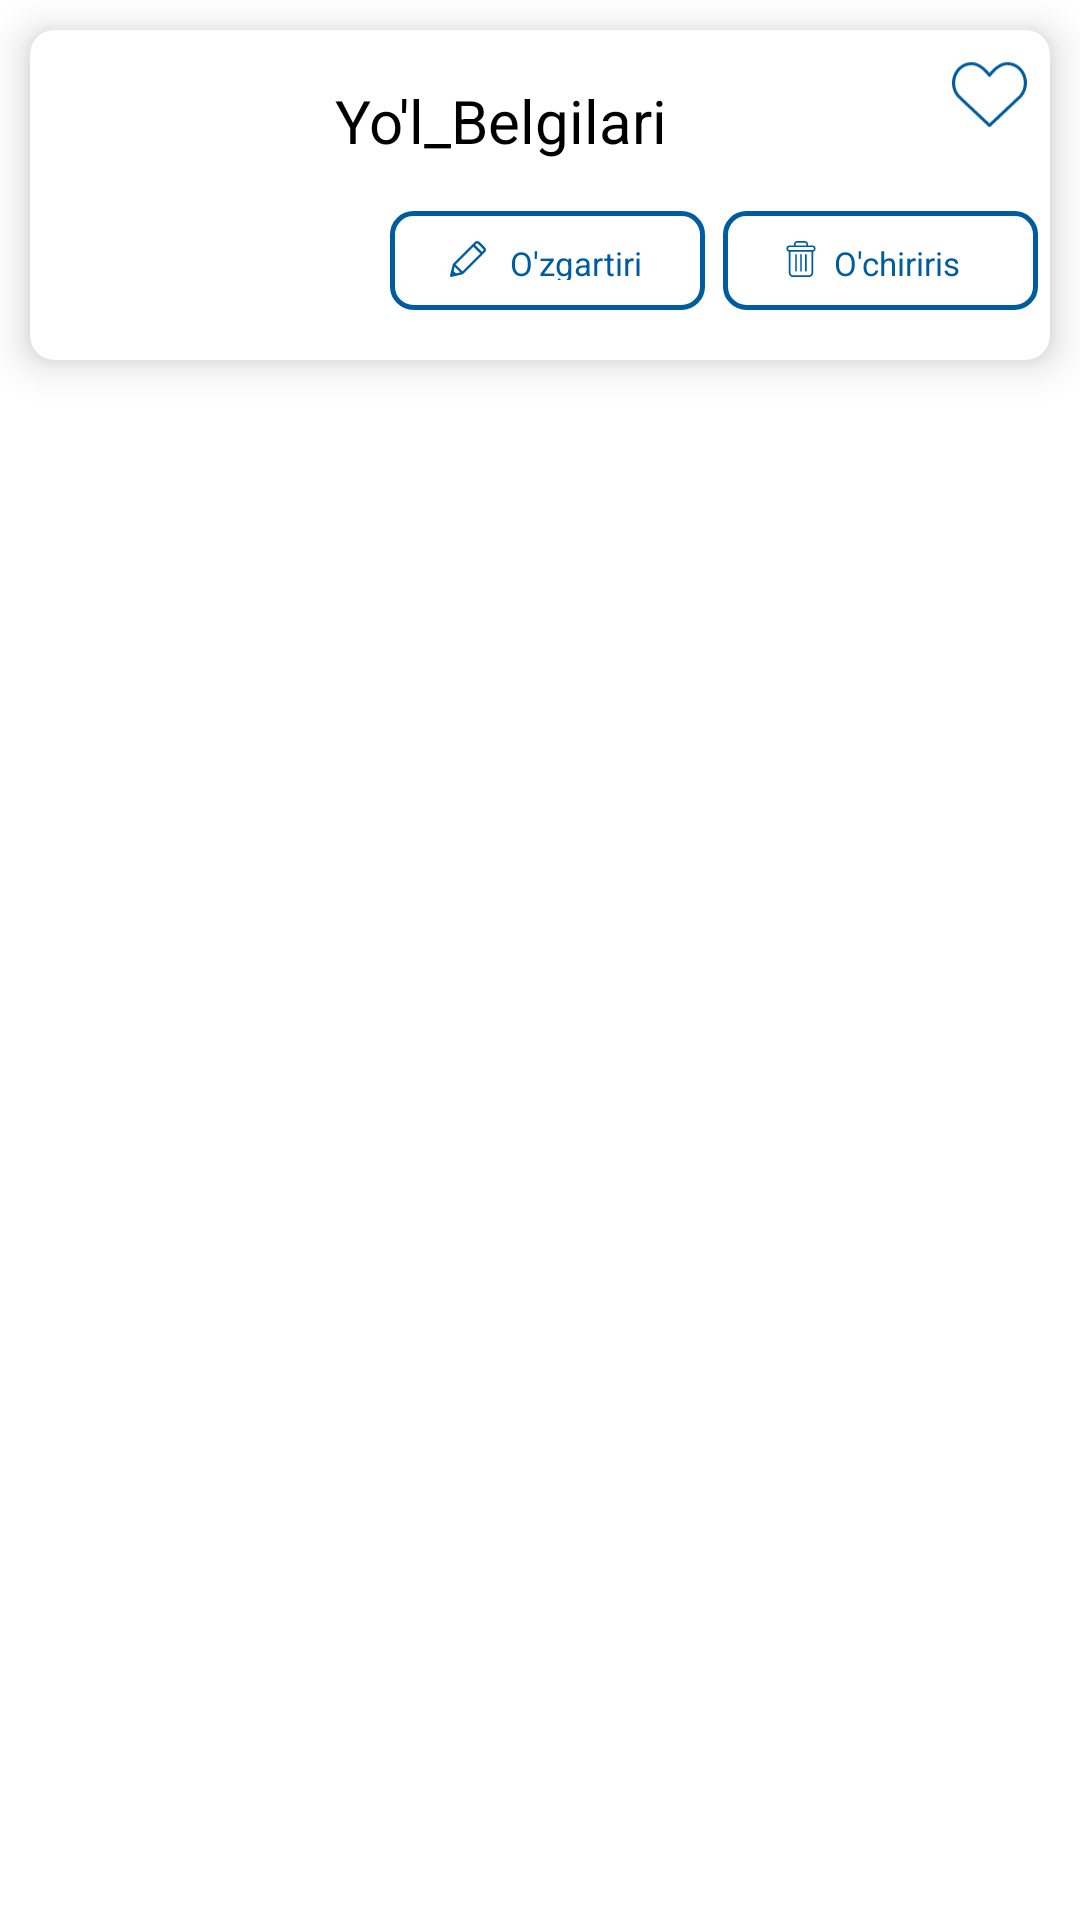

Where to tap for icons on this 1080x1920 app screen, as (x,y):
pencil: (468,259)
trash: (801,259)
unselectedheart: (989,94)
